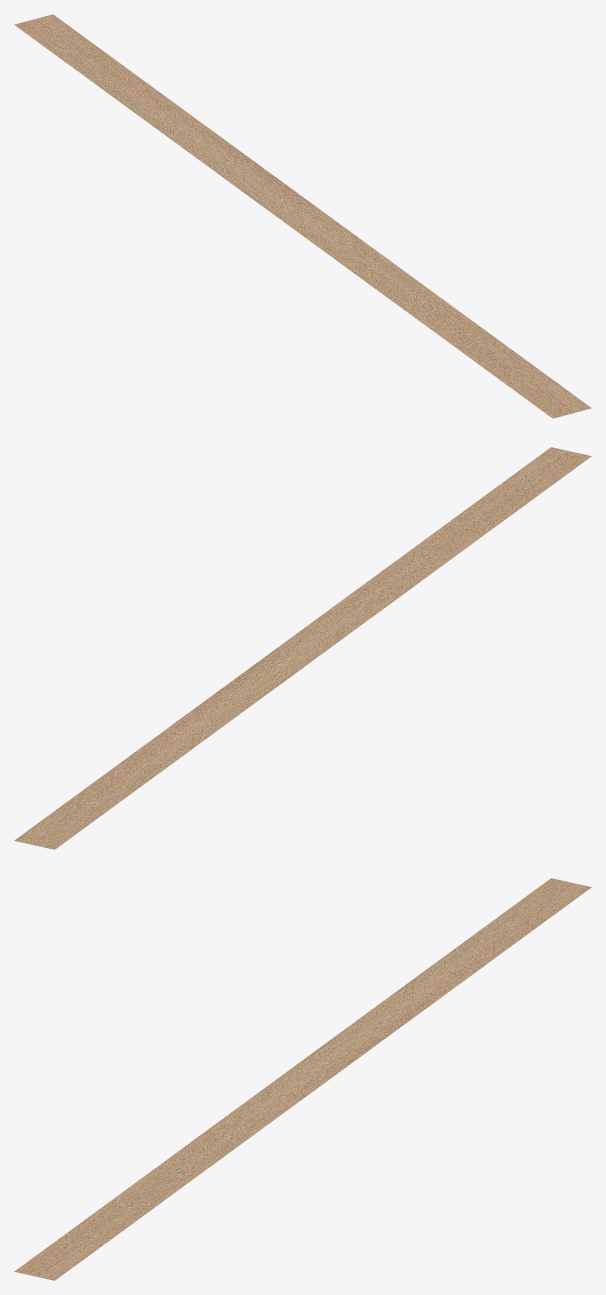
3 renders of one model, top to bottom at view 1: azimuth 30°, elevation 25°; view 2: azimuth 150°, elevation 25°; view 3: azimuth 330°, elevation 25°, orthographic.
Visible parts, largest first — view 1: Plane; view 2: Plane; view 3: Plane.
Part boxes in pixels (box(x1,y1,x2,y2)): Plane: box(14, 14, 591, 418); Plane: box(14, 447, 591, 849); Plane: box(14, 878, 591, 1280).
Bounding box in the file's own units: 18.22 × 0 × 421.
Materials: 1 (1 with a texture image).
